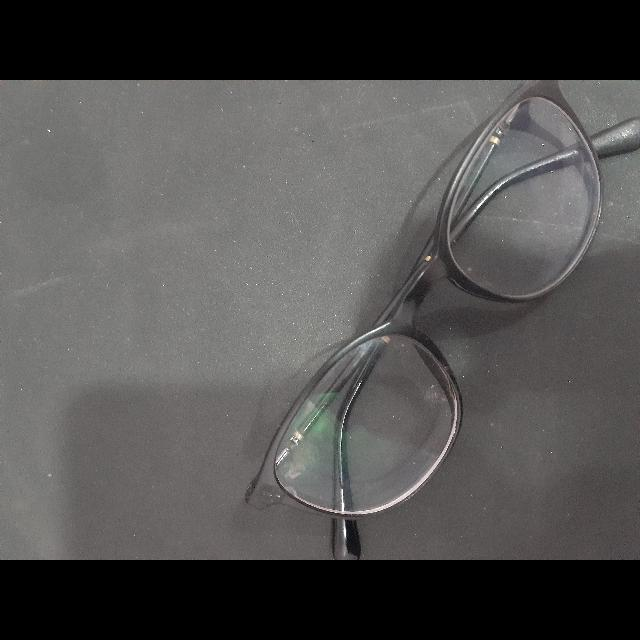glasses: (237, 83, 640, 560)
